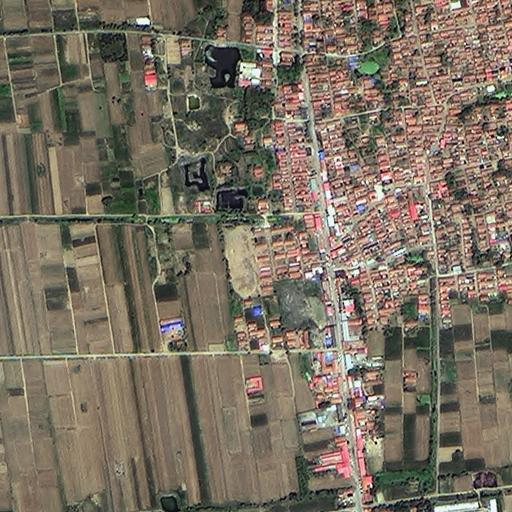school: (217, 222, 273, 300)
